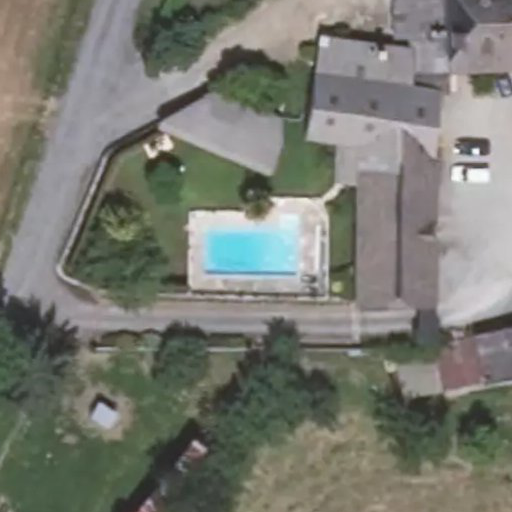pool: (209, 214, 301, 269)
